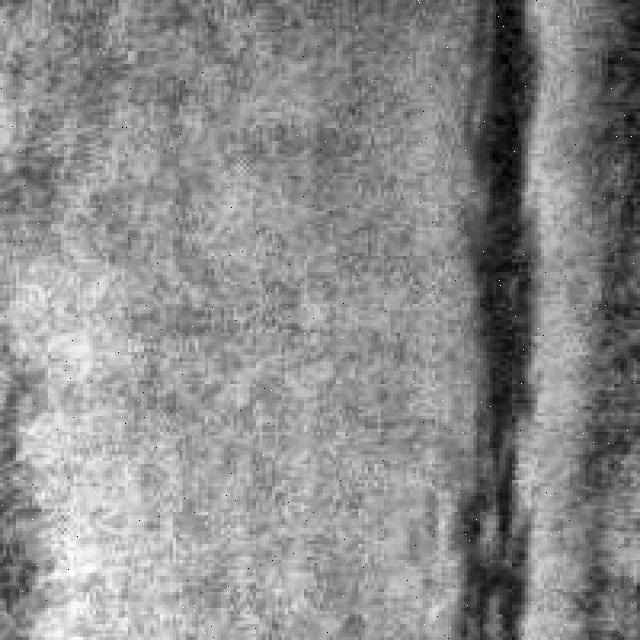Patches: (422, 0, 544, 634)
